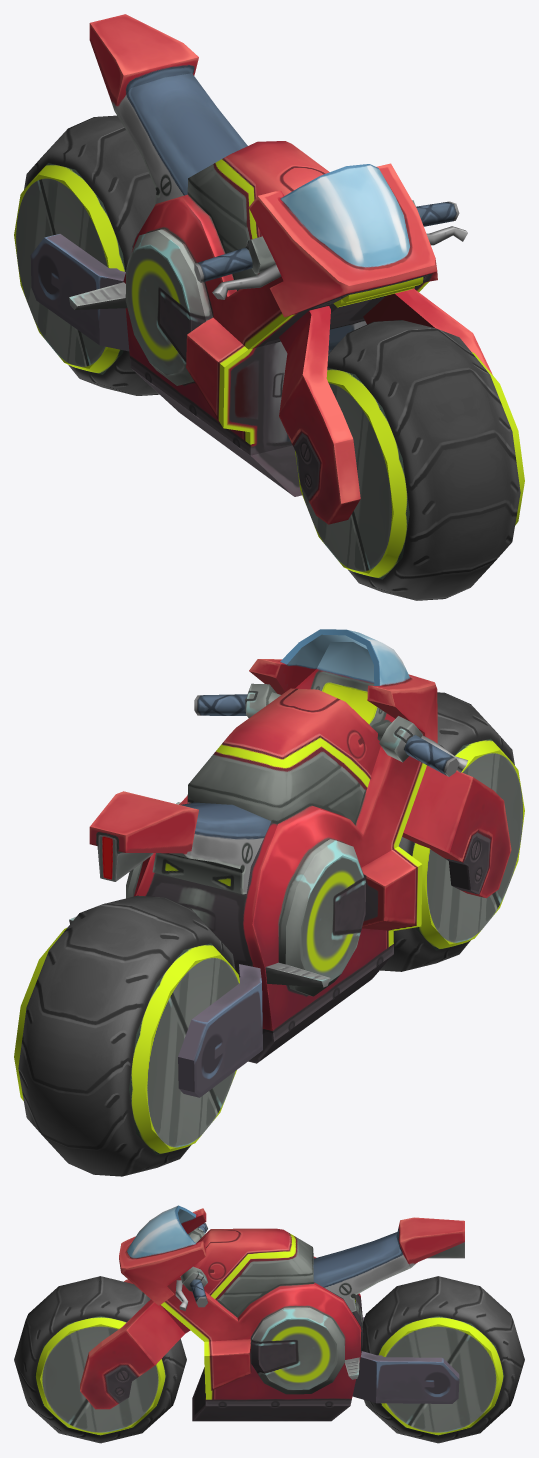
Rendered from Bike.fbx.
3 renders of one model, top to bottom at view 1: azimuth 30°, elevation 25°; view 2: azimuth 150°, elevation 25°; view 3: azimuth 270°, elevation 25°, orthographic. The views are drawn at different scales.
Visible parts, largest first — view 1: body, Front_wheel, back_wheel; view 2: body, back_wheel, Front_wheel; view 3: body, back_wheel, Front_wheel.
Boxes of the visible parts, left/top/right/bottom form: body: left=30, top=14, right=492, bottom=524; Front_wheel: left=295, top=320, right=524, bottom=600; back_wheel: left=14, top=115, right=159, bottom=395; body: left=69, top=629, right=511, bottom=1097; back_wheel: left=14, top=895, right=239, bottom=1176; Front_wheel: left=380, top=692, right=524, bottom=971; body: left=80, top=1205, right=464, bottom=1421; back_wheel: left=362, top=1276, right=524, bottom=1443; Front_wheel: left=14, top=1276, right=186, bottom=1443.
Bounding box in the file's own units: 87.46 × 122 × 247.
